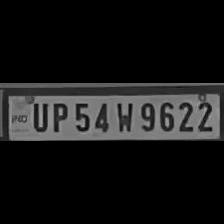2: (194, 98, 212, 132), (176, 100, 194, 132)
4: (92, 100, 112, 132)
5: (70, 100, 92, 132)
6: (156, 100, 174, 132)
9: (136, 100, 156, 132)
P: (48, 100, 68, 132)
U: (28, 100, 48, 132)
W: (113, 99, 133, 133)
